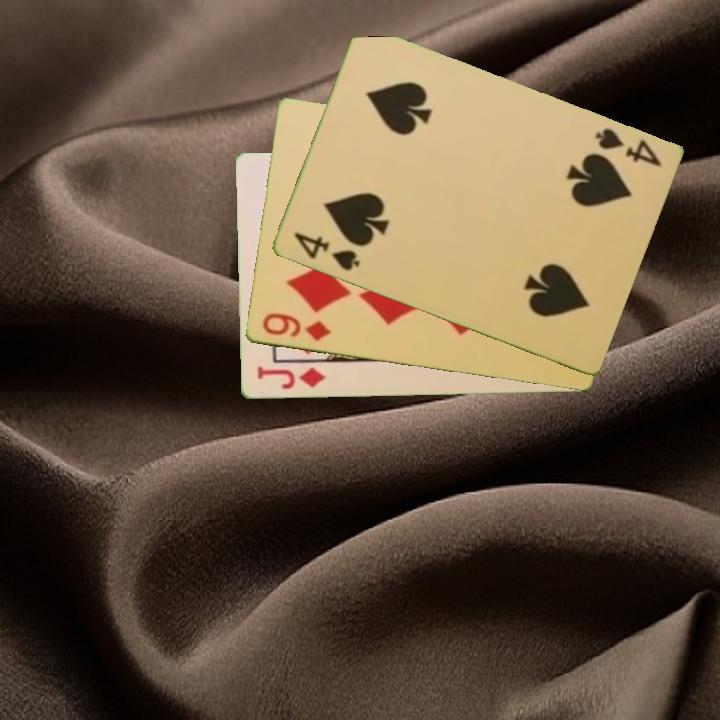4s: (591, 124, 664, 170), (289, 229, 363, 274)
9d: (258, 309, 333, 345)
Jd: (253, 363, 328, 393)
